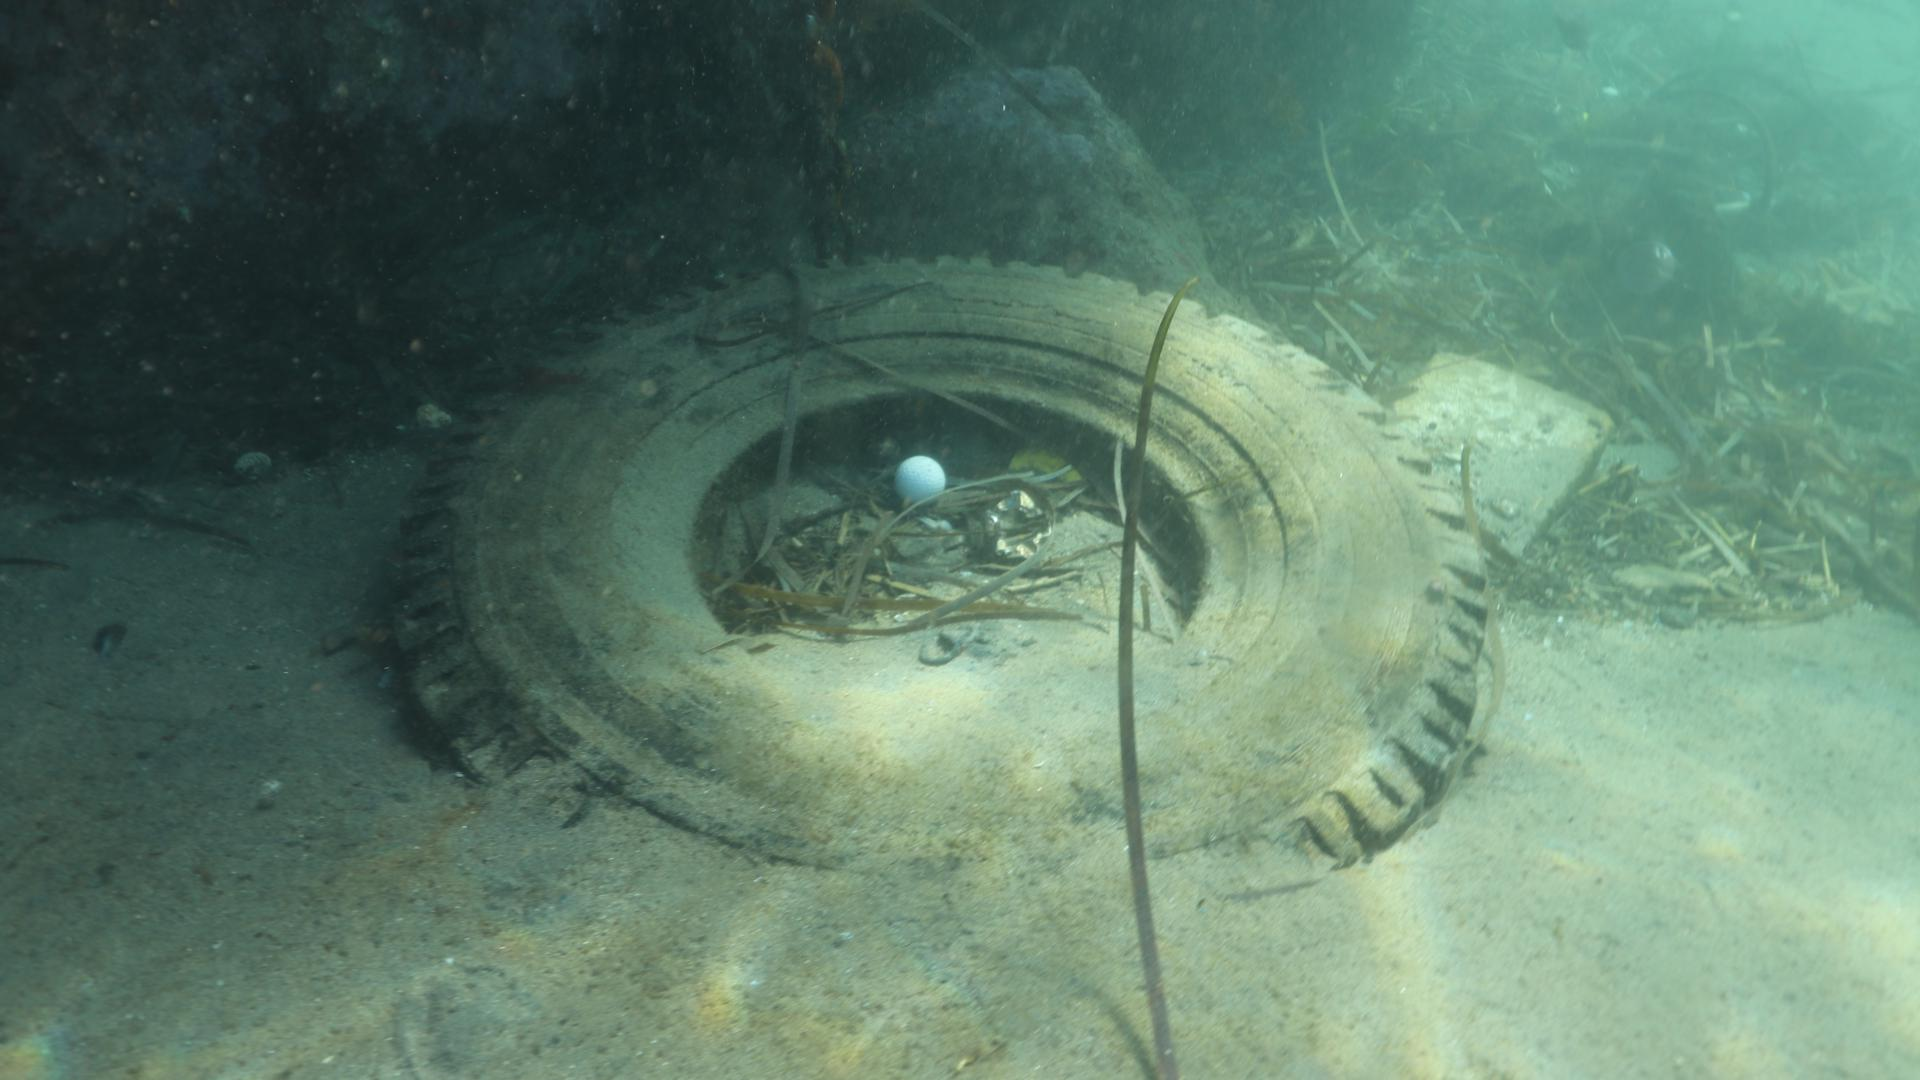tire: (392, 253, 1485, 901)
